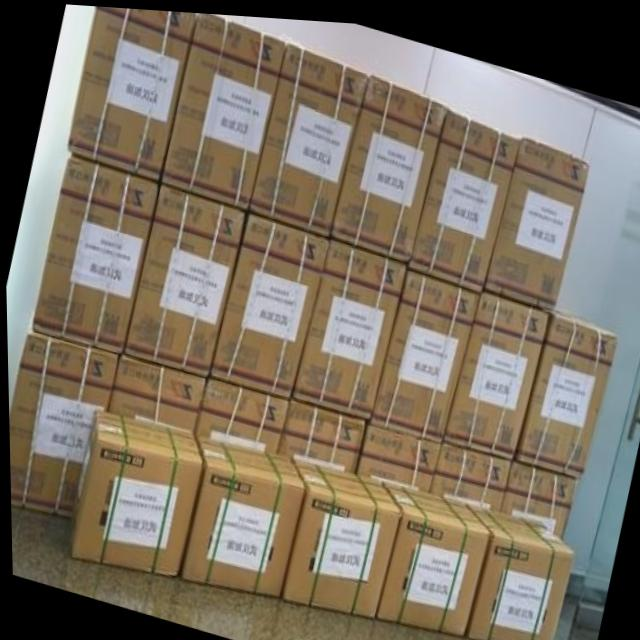box: (30, 153, 157, 346), (162, 10, 285, 199), (123, 181, 245, 367), (248, 37, 367, 224), (67, 409, 201, 574), (328, 68, 448, 252), (68, 5, 196, 169), (176, 430, 305, 591), (211, 209, 328, 386), (7, 333, 115, 518), (291, 234, 404, 409), (277, 453, 398, 611), (409, 105, 519, 278), (370, 262, 476, 430), (372, 476, 488, 628), (485, 127, 589, 296), (442, 285, 546, 447), (515, 303, 616, 463), (463, 496, 570, 640), (105, 355, 202, 430), (192, 376, 287, 449), (274, 397, 363, 467), (352, 417, 439, 488), (497, 451, 575, 530), (426, 436, 509, 504)
